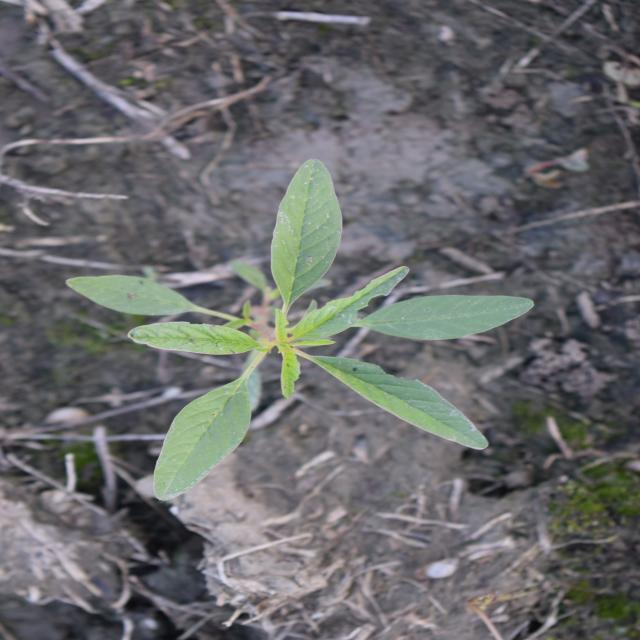Waterhemp: (61, 155, 538, 505)
